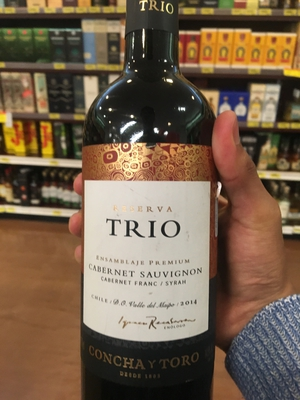trio cabernet sauvignon: (78, 37, 231, 400)
